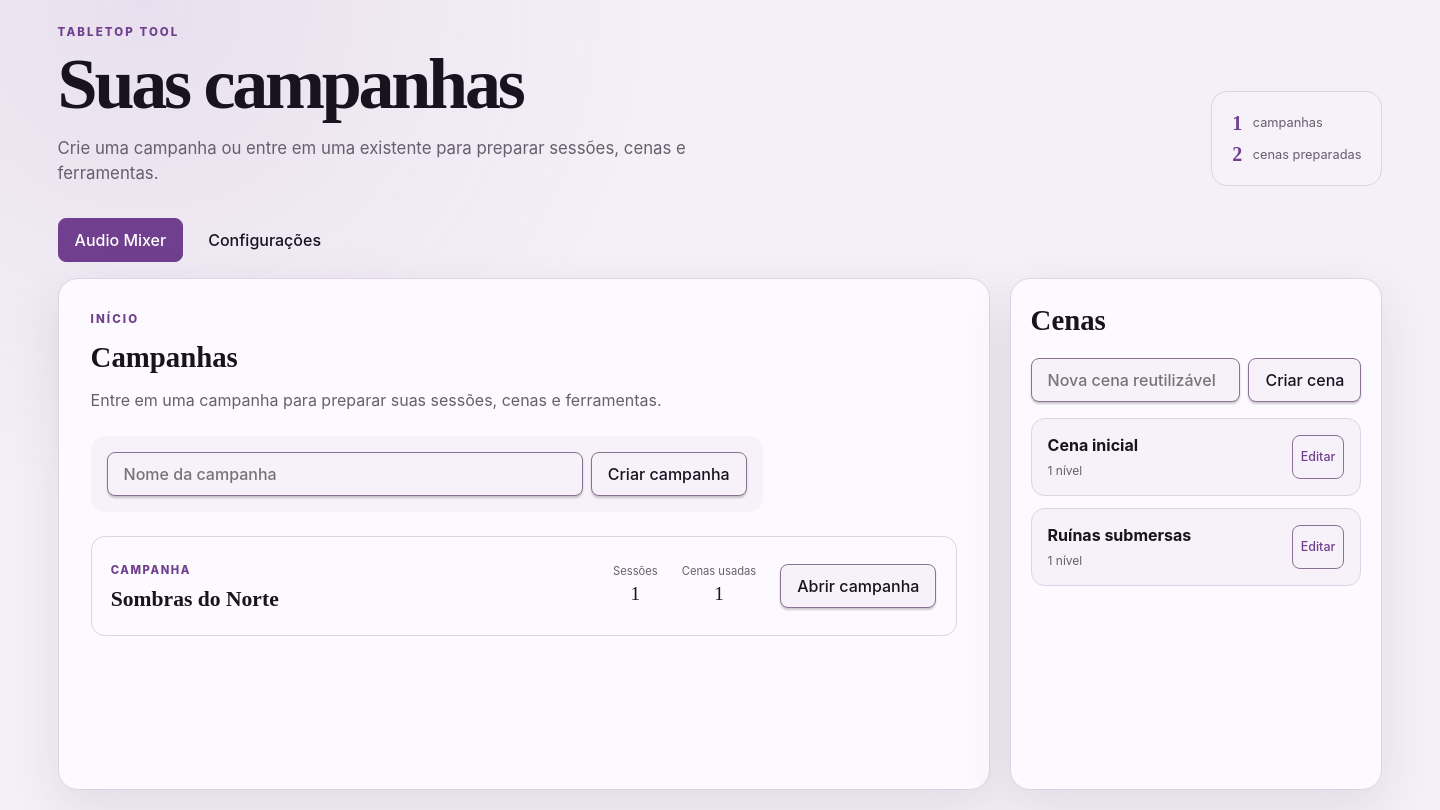
Test: Core workspace › adds another reusable scene to a session sequence
Click the button with aria-label "Abrir campanha Sombras do Norte" at (858, 586), box [780,564,936,608]
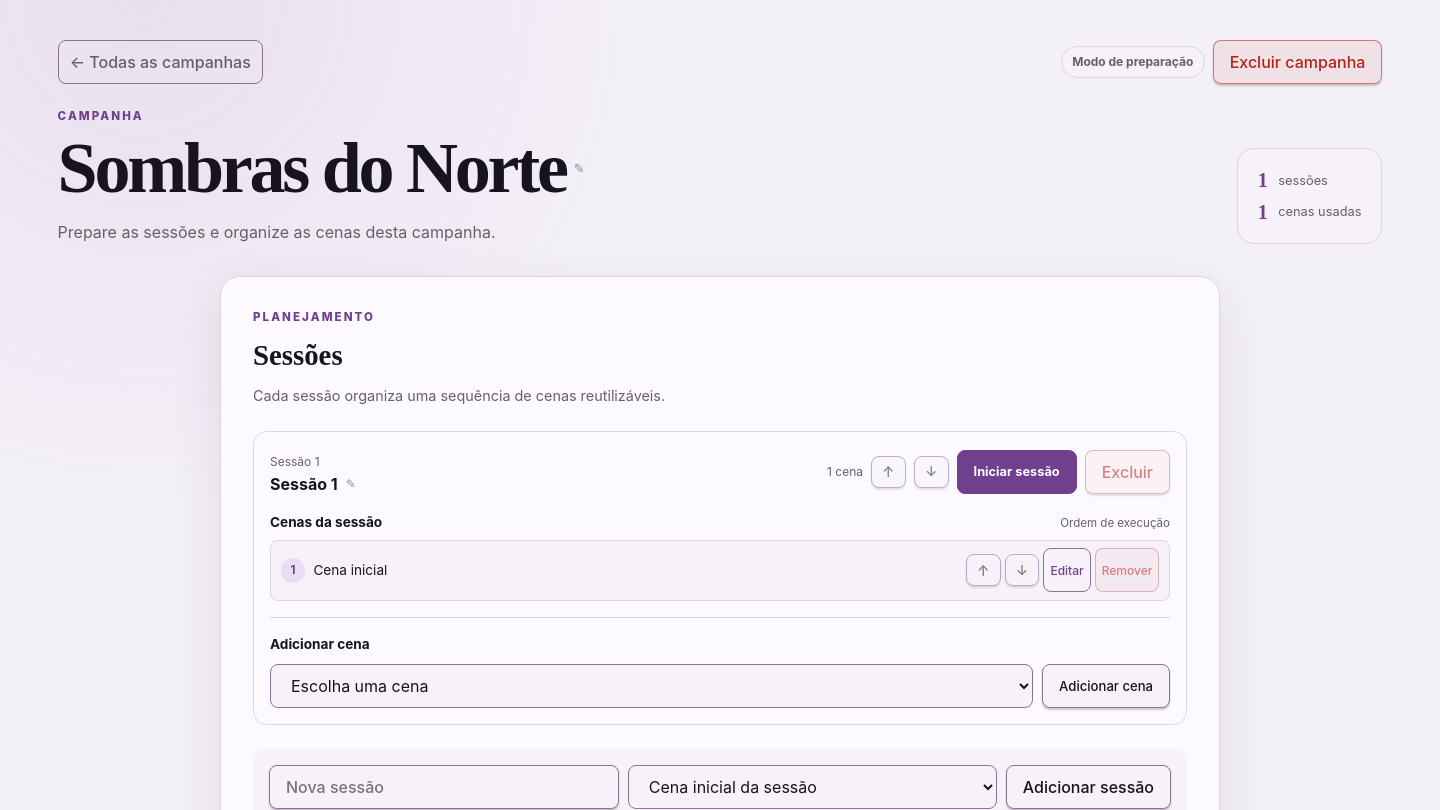
Result: the element "Sessão 1" is shown at [253,431,1187,725]
Result: the list named "Sequência de cenas" shows "Cena inicial" at [313,562,387,578]
Select "Ruínas submersas" in the dropdown named "Cena para adicionar à sessão Sessão 1" at (652, 686), box [270,664,1033,708]
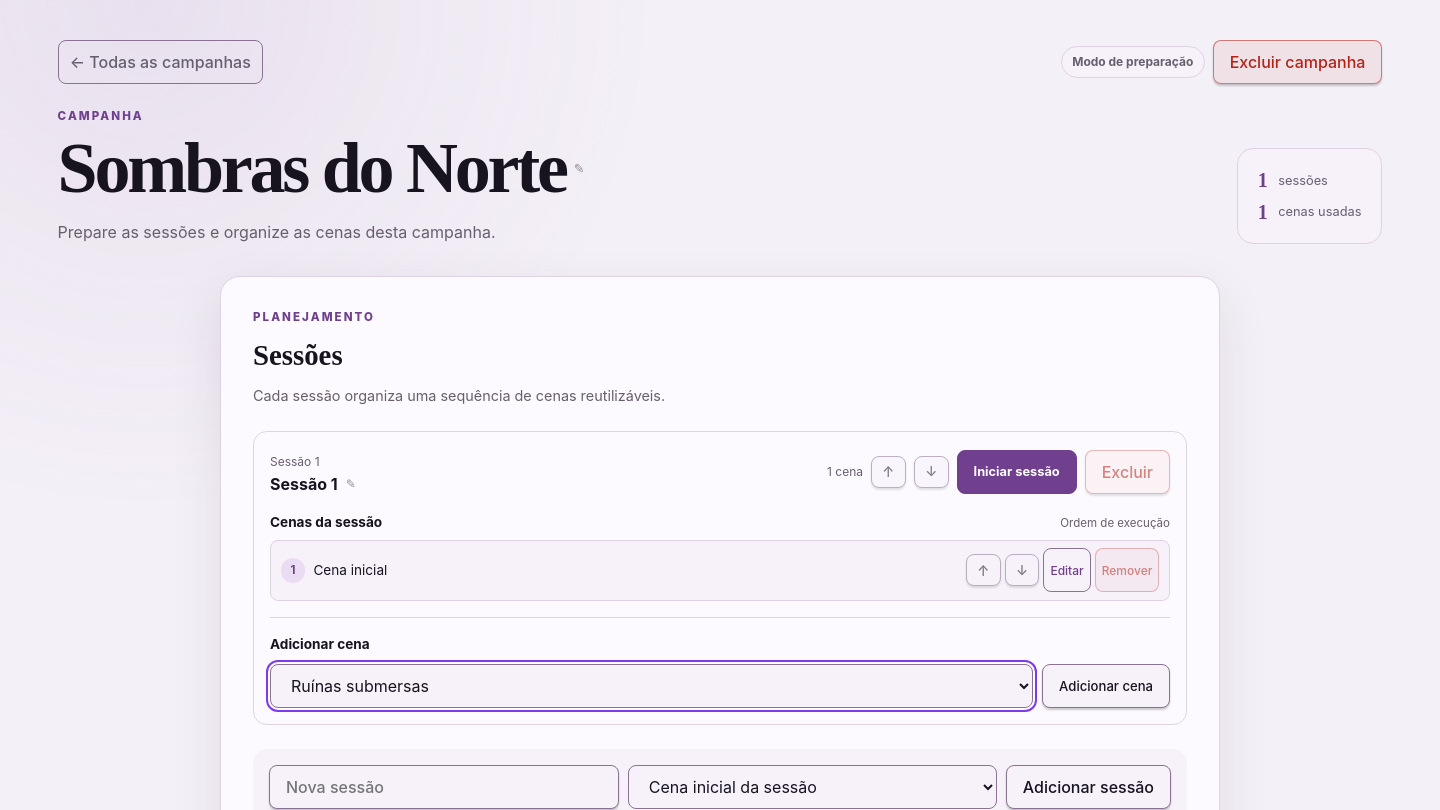
Click the button "Adicionar cena" at (1106, 686), box [1042,664,1170,708]
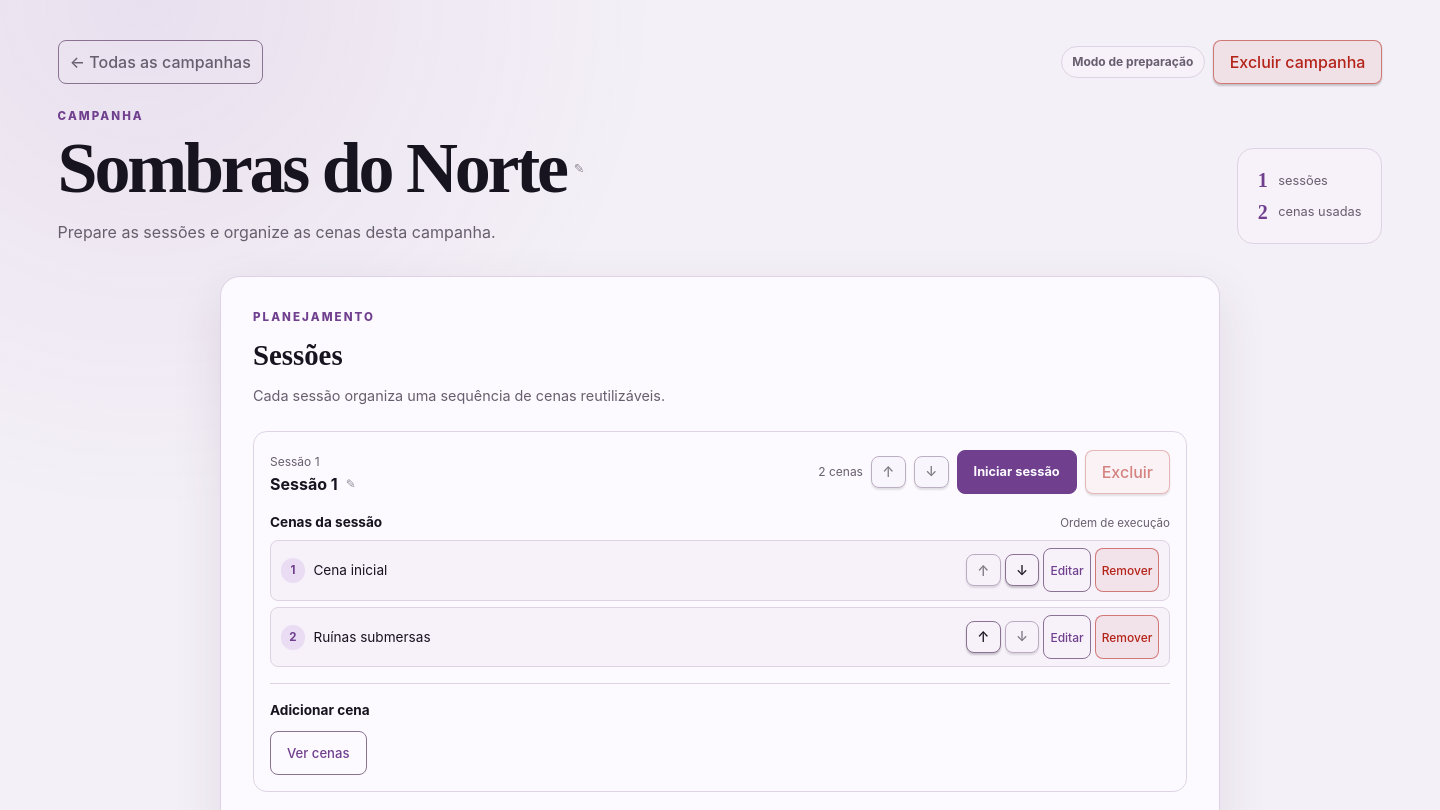
Result: the number of list items is 2 at [270,540,1170,601]; [270,607,1170,667]
Result: the list named "Sequência de cenas" shows "Ruínas submersas" at [313,629,431,645]
